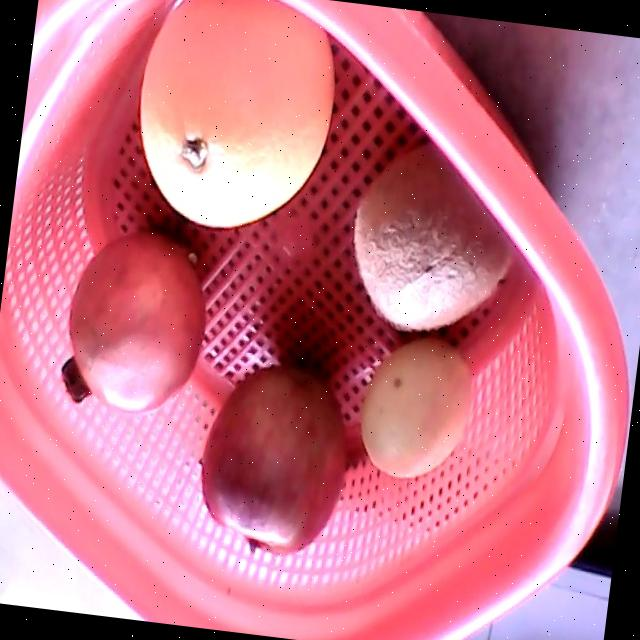apple: (199, 364, 345, 553)
kiwi: (352, 137, 516, 328)
lemon: (360, 337, 470, 475)
orange: (139, 0, 333, 226)
pomegranate: (58, 230, 205, 411)
